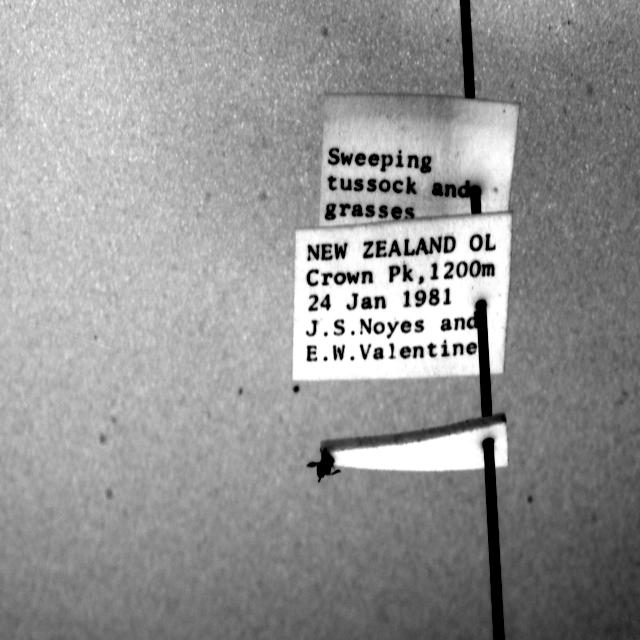typed_label: (292, 212, 512, 381), (320, 94, 519, 227)
